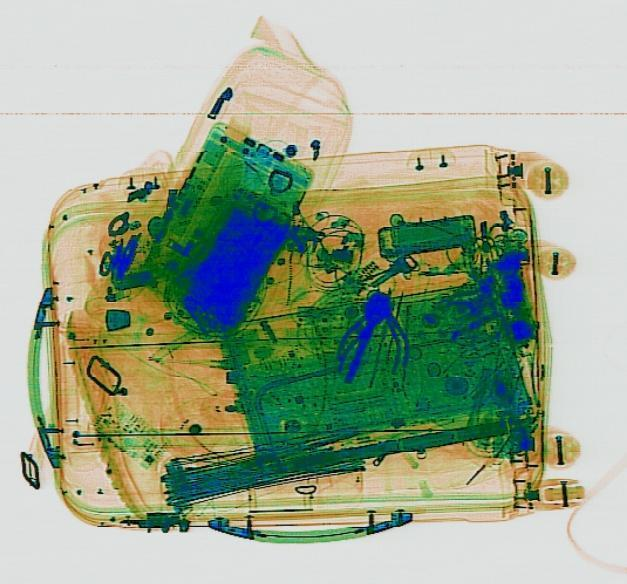Pliers: (327, 295, 413, 383), (335, 301, 412, 377)
